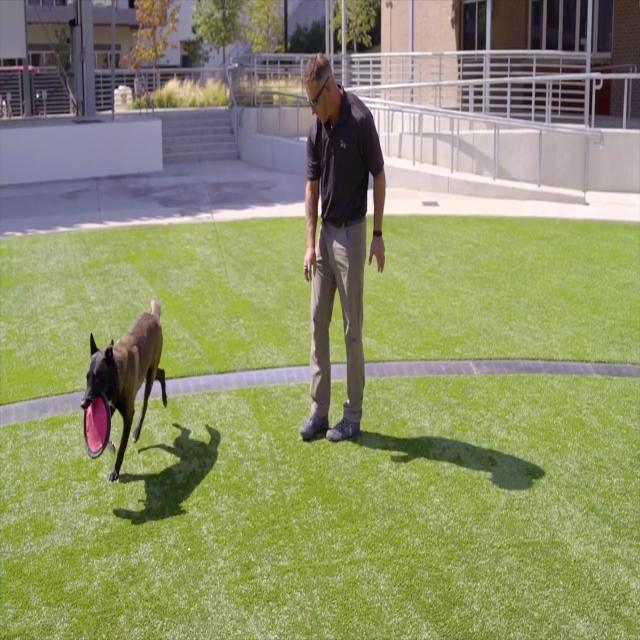Unleashed_Dog: (81, 299, 331, 481)
